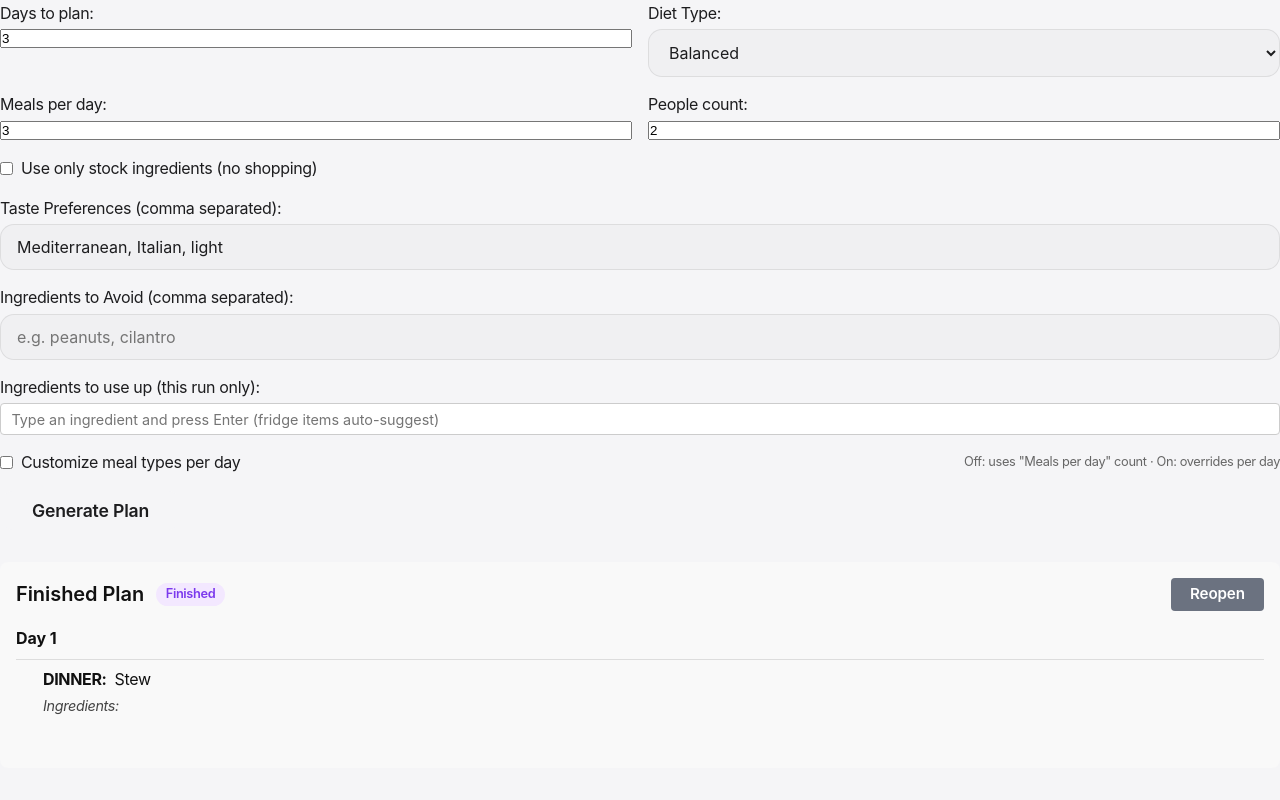
Test: MealPlanner › surfaces server 409 detail message on reopen failure
(page scrolled)
Click the button "Reopen".
click(1217, 595)  # box [1171,578,1264,611]
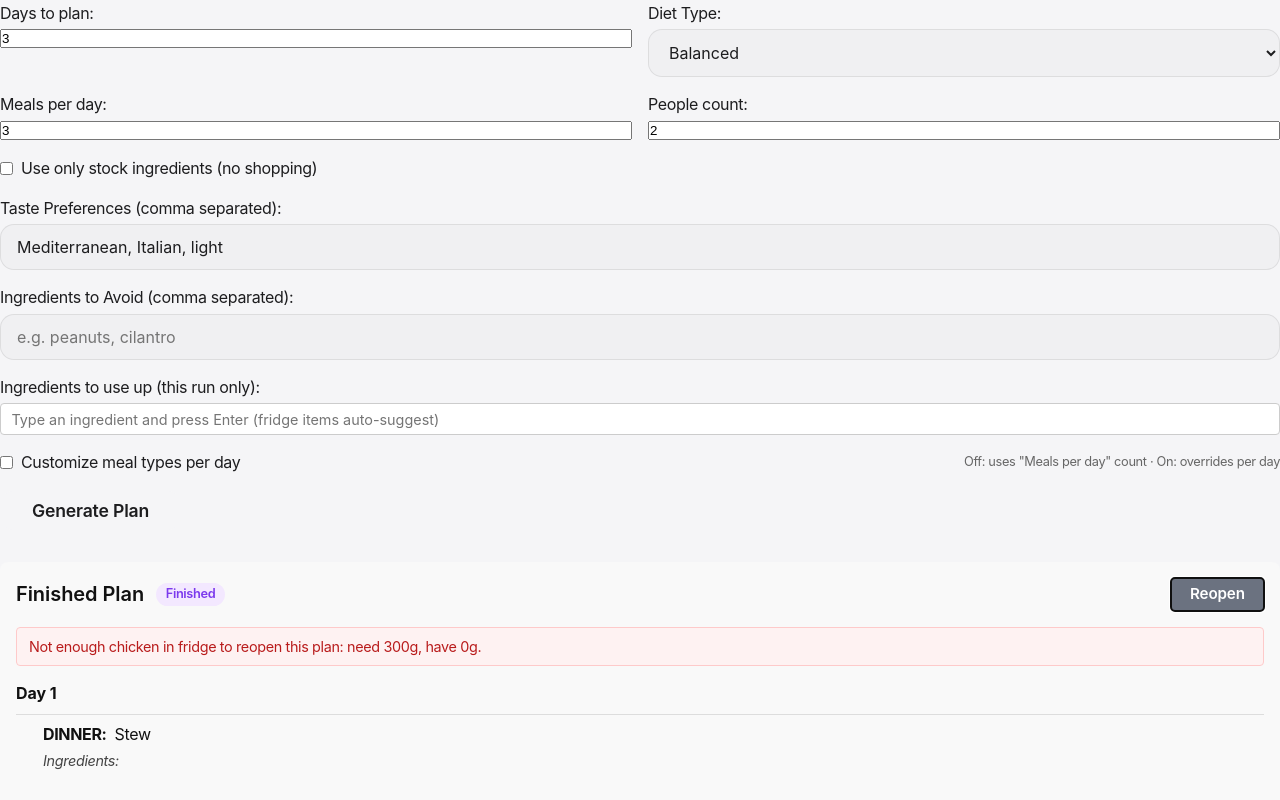
Expected: the heading "Finished Plan" is shown, [16,582,144,607]
Expected: the message shows "Not enough chicken", [29,638,481,655]
